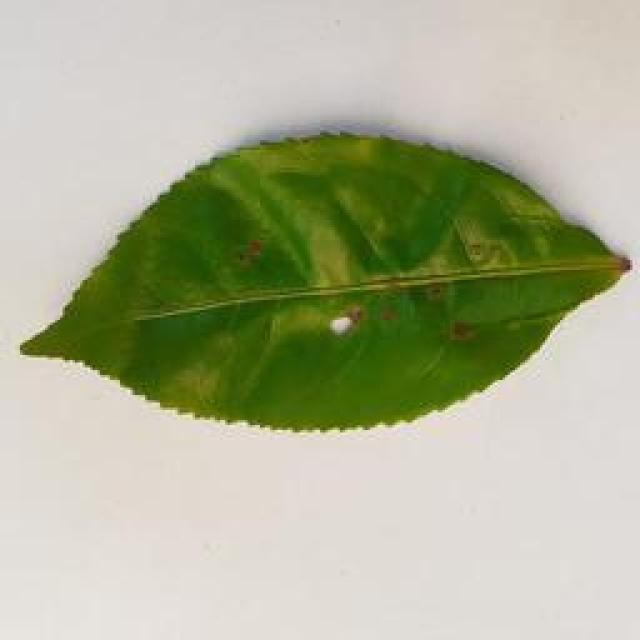Helopeltis: (0, 125, 638, 447)
